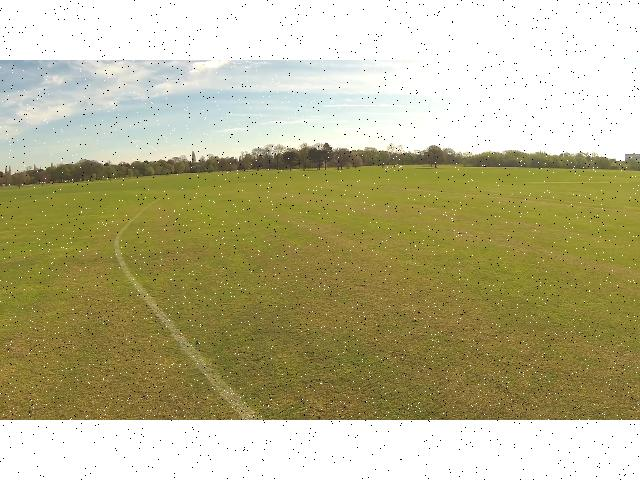Anti-Drone: (376, 158, 408, 174)
